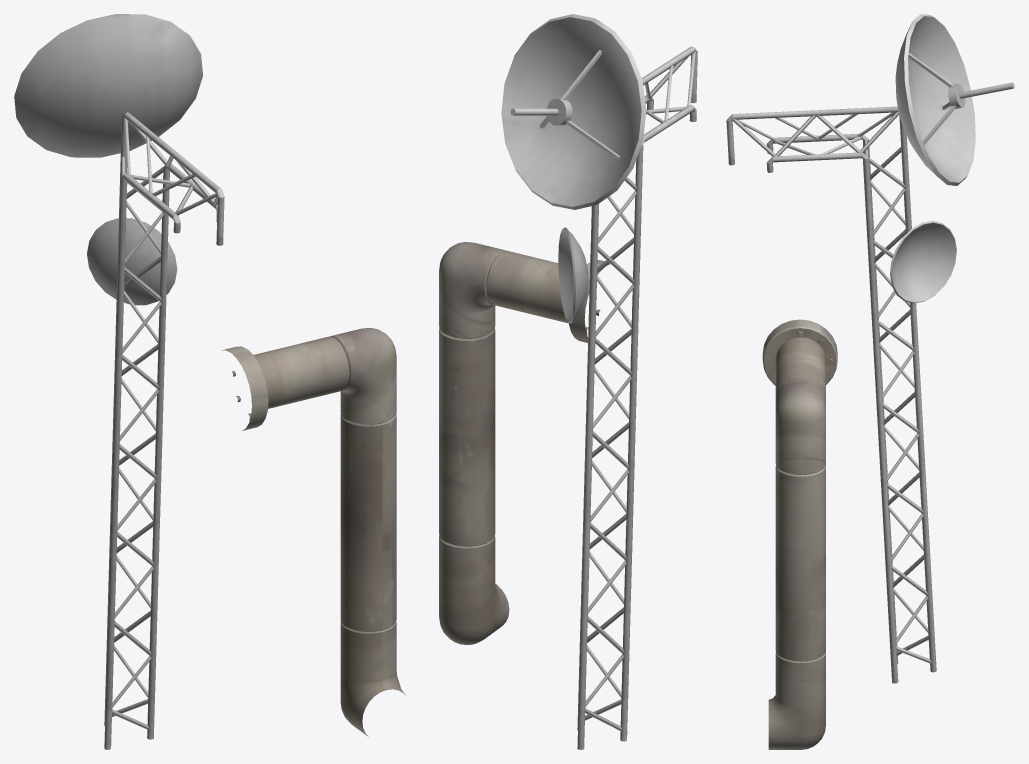
3 renders of one model, left to right at view 1: azimuth 30°, elevation 25°; view 2: azimuth 150°, elevation 25°; view 3: azimuth 270°, elevation 25°, orthographic. The views are drawn at different scales.
Visible parts, largest first — view 1: body0_model0_lod0_mesh0; view 2: body0_model0_lod0_mesh0; view 3: body0_model0_lod0_mesh0.
Boxes of the visible parts, <box> form: body0_model0_lod0_mesh0: <box>14,14,405,749</box>; body0_model0_lod0_mesh0: <box>439,14,697,749</box>; body0_model0_lod0_mesh0: <box>726,14,1014,749</box>.
Bounding box in the file's own units: 459 × 1097 × 441.
Materials: 1 (1 with a texture image).
